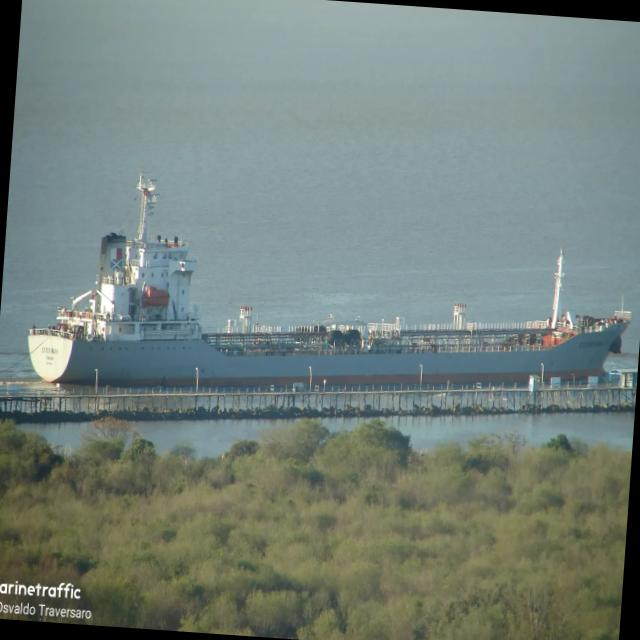Tanker: (28, 173, 630, 389)
